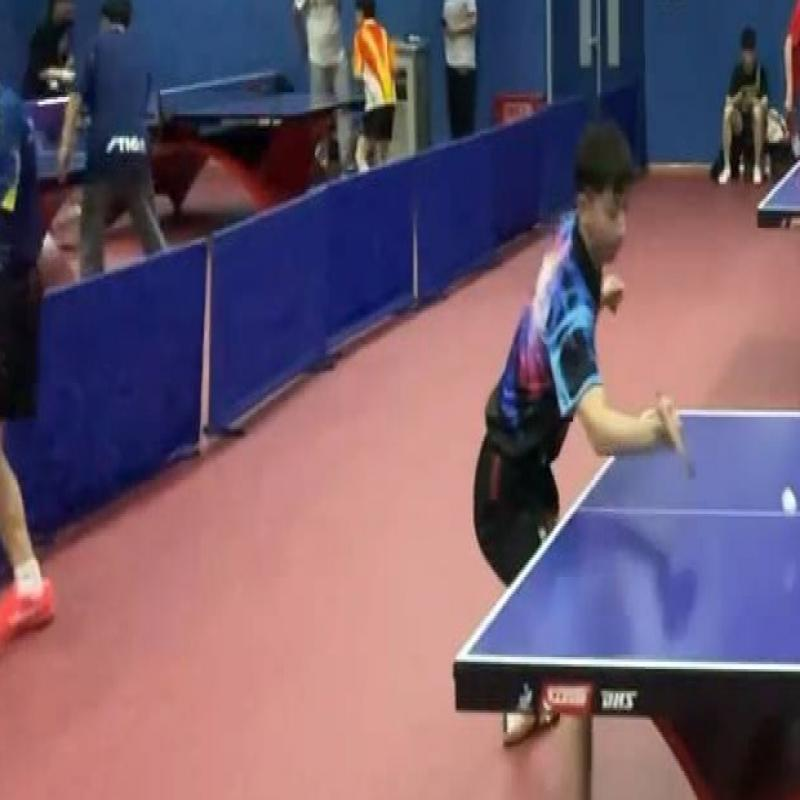bats: (652, 386, 706, 494)
